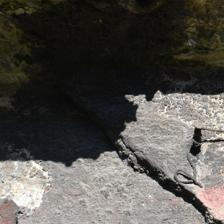Crack: (24, 67, 121, 148), (15, 42, 88, 117), (94, 2, 122, 113)
